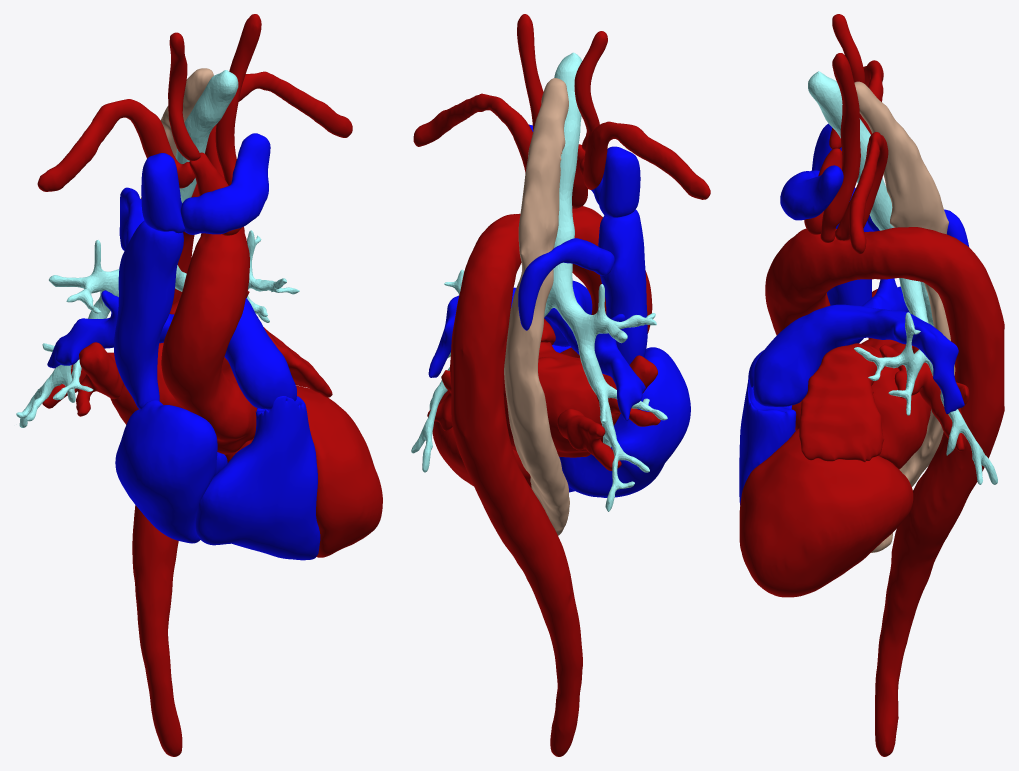
File: mediastinum-teaching.glb
3 renders of one model, left to right at view 1: azimuth 30°, elevation 25°; view 2: azimuth 150°, elevation 25°; view 3: azimuth 270°, elevation 25°, orthographic. The views are drawn at different scales.
Parts seen in each view (by area): view 1: aorta, right_ventricle, right_atrium, left_ventricle, superior_vena_cava, pulmonary_artery, left_brachiocephalic_vein, right_subclavian_artery, right_brachiocephalic_vein, left_subclavian_artery, trachea, pulmonary_venous_system (+10 smaller); view 2: aorta, esophagus, right_atrium, superior_vena_cava, pulmonary_artery, left_atrium, right_subclavian_artery, pulmonary_venous_system, distal_airway_branches, trachea, azygous, left_subclavian_artery (+7 smaller); view 3: aorta, left_ventricle, pulmonary_artery, atrial_appendage_left, esophagus, left_atrium, left_common_carotid_artery, right_ventricle, left_subclavian_artery, trachea, left_brachiocephalic_vein, distal_airway_branches (+8 smaller).
Part boxes in pixels (left/top/right/bottom): aorta: left=132, top=183, right=257, bottom=756; right_ventricle: left=195, top=396, right=320, bottom=560; right_atrium: left=115, top=400, right=227, bottom=543; left_ventricle: left=225, top=385, right=382, bottom=557; superior_vena_cava: left=114, top=220, right=183, bottom=409; pulmonary_artery: left=47, top=290, right=296, bottom=409; left_brachiocephalic_vein: left=180, top=133, right=270, bottom=234; right_subclavian_artery: left=37, top=99, right=195, bottom=191; right_brachiocephalic_vein: left=141, top=153, right=184, bottom=233; left_subclavian_artery: left=205, top=71, right=352, bottom=178; trachea: left=94, top=70, right=238, bottom=263; pulmonary_venous_system: left=42, top=290, right=257, bottom=416; aorta: left=450, top=206, right=652, bottom=756; esophagus: left=504, top=78, right=569, bottom=535; right_atrium: left=559, top=347, right=690, bottom=497; superior_vena_cava: left=598, top=209, right=647, bottom=364; pulmonary_artery: left=428, top=280, right=645, bottom=420; left_atrium: left=504, top=342, right=620, bottom=457; right_subclavian_artery: left=579, top=121, right=710, bottom=199; pulmonary_venous_system: left=427, top=355, right=660, bottom=470; distal_airway_branches: left=411, top=335, right=667, bottom=511; trachea: left=553, top=52, right=604, bottom=307; azygous: left=518, top=238, right=614, bottom=330; left_subclavian_artery: left=413, top=93, right=532, bottom=172; aorta: left=765, top=227, right=1004, bottom=756; left_ventricle: left=739, top=428, right=913, bottom=597; pulmonary_artery: left=753, top=278, right=964, bottom=413; atrial_appendage_left: left=799, top=343, right=884, bottom=462; esophagus: left=854, top=81, right=955, bottom=552; left_atrium: left=861, top=338, right=930, bottom=469; left_common_carotid_artery: left=820, top=53, right=860, bottom=242; right_ventricle: left=739, top=379, right=796, bottom=505; left_subclavian_artery: left=835, top=132, right=888, bottom=254; trachea: left=808, top=71, right=894, bottom=230; left_brachiocephalic_vein: left=780, top=165, right=843, bottom=220; distal_airway_branches: left=888, top=283, right=997, bottom=484.
Bounding box in the file's own units: 0.1633 × 0.3734 × 0.1227.
